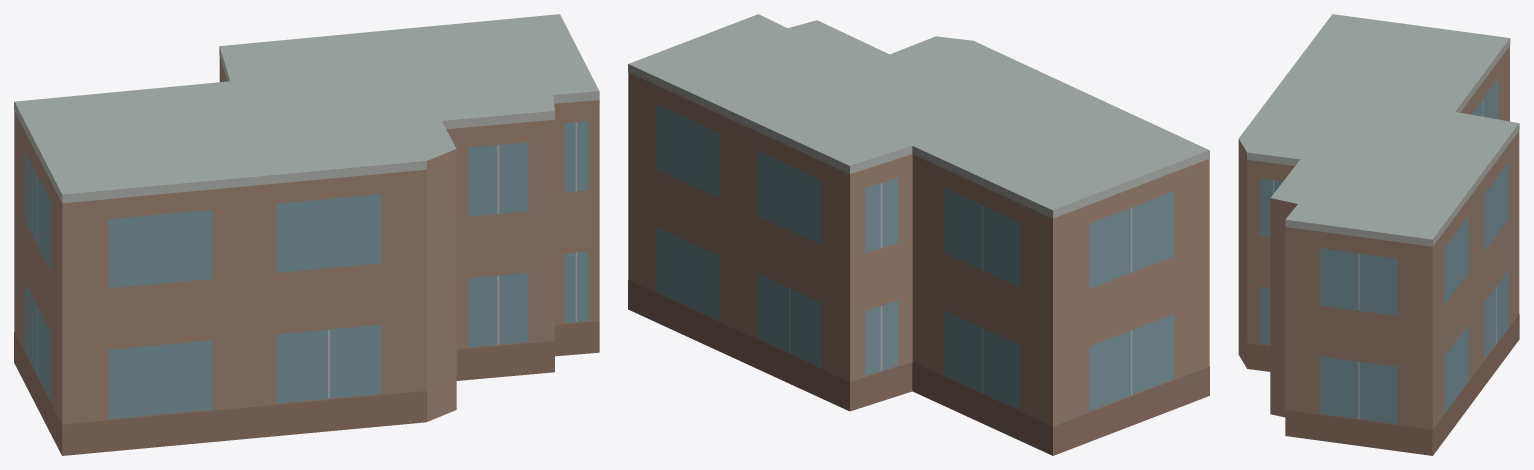
File: survey-upis-32945023.glb
3 views of the same model, side by side, from view 1: azimuth 30°, elevation 25°; view 2: azimuth 150°, elevation 25°; view 3: azimuth 270°, elevation 25° (orthographic). The views are drawn at different scales.
Parts seen in each view (by area): view 1: survey-upis-32945023.tmp; view 2: survey-upis-32945023.tmp; view 3: survey-upis-32945023.tmp.
Boxes of the visible parts, x1,y1,x2,y2 form: survey-upis-32945023.tmp: (14,14,599,455); survey-upis-32945023.tmp: (628,14,1209,455); survey-upis-32945023.tmp: (1238,14,1519,455).
Size of the model in its own units: 16.34 by 7.3 by 8.6.
